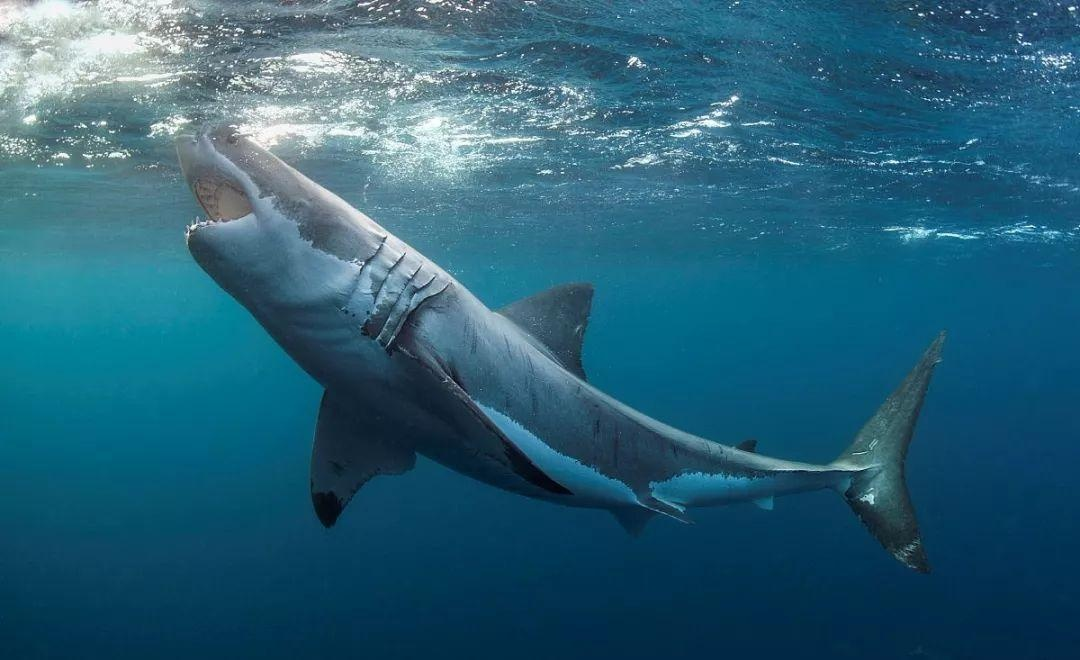fish: (179, 107, 939, 574)
